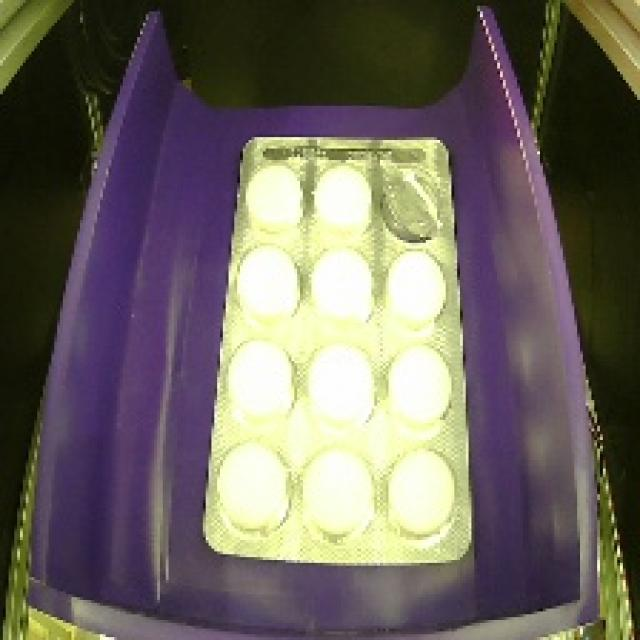med_plate: (185, 113, 485, 573)
